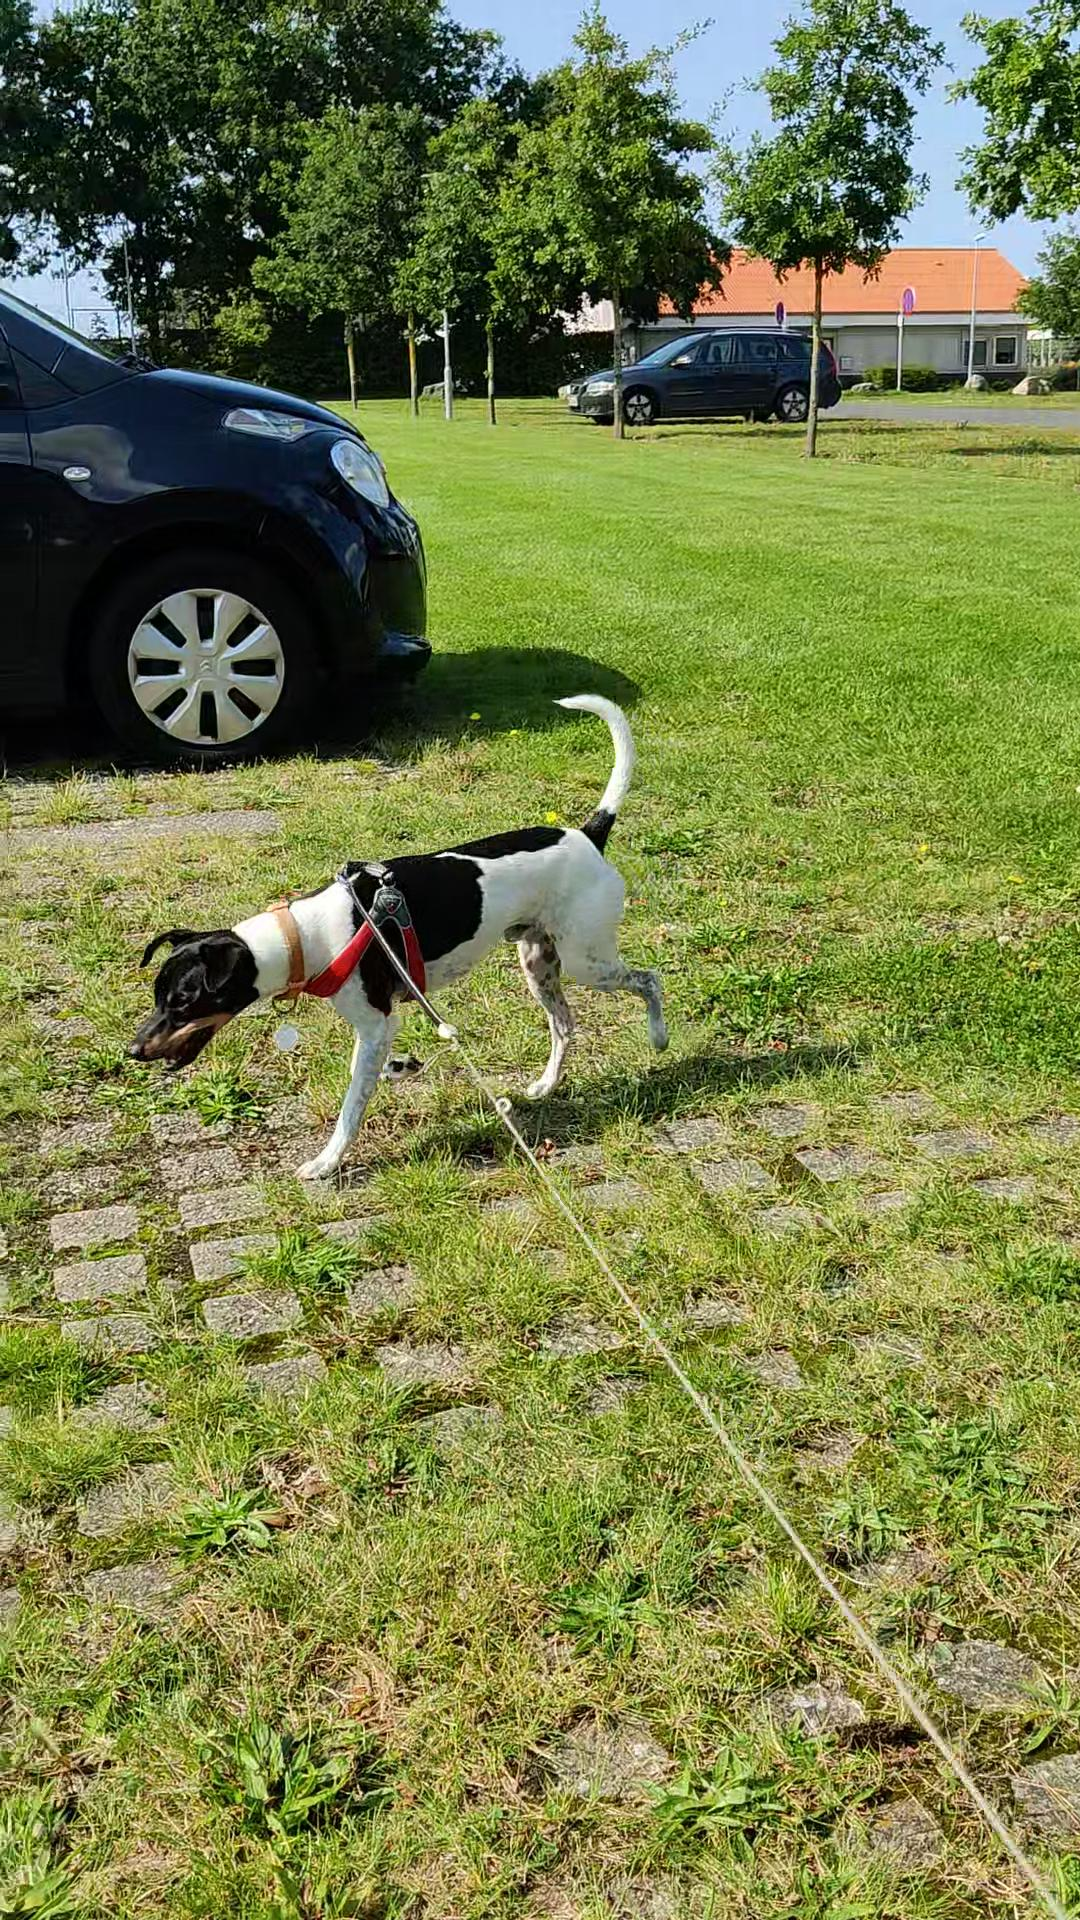Dog: (123, 688, 673, 1180)
